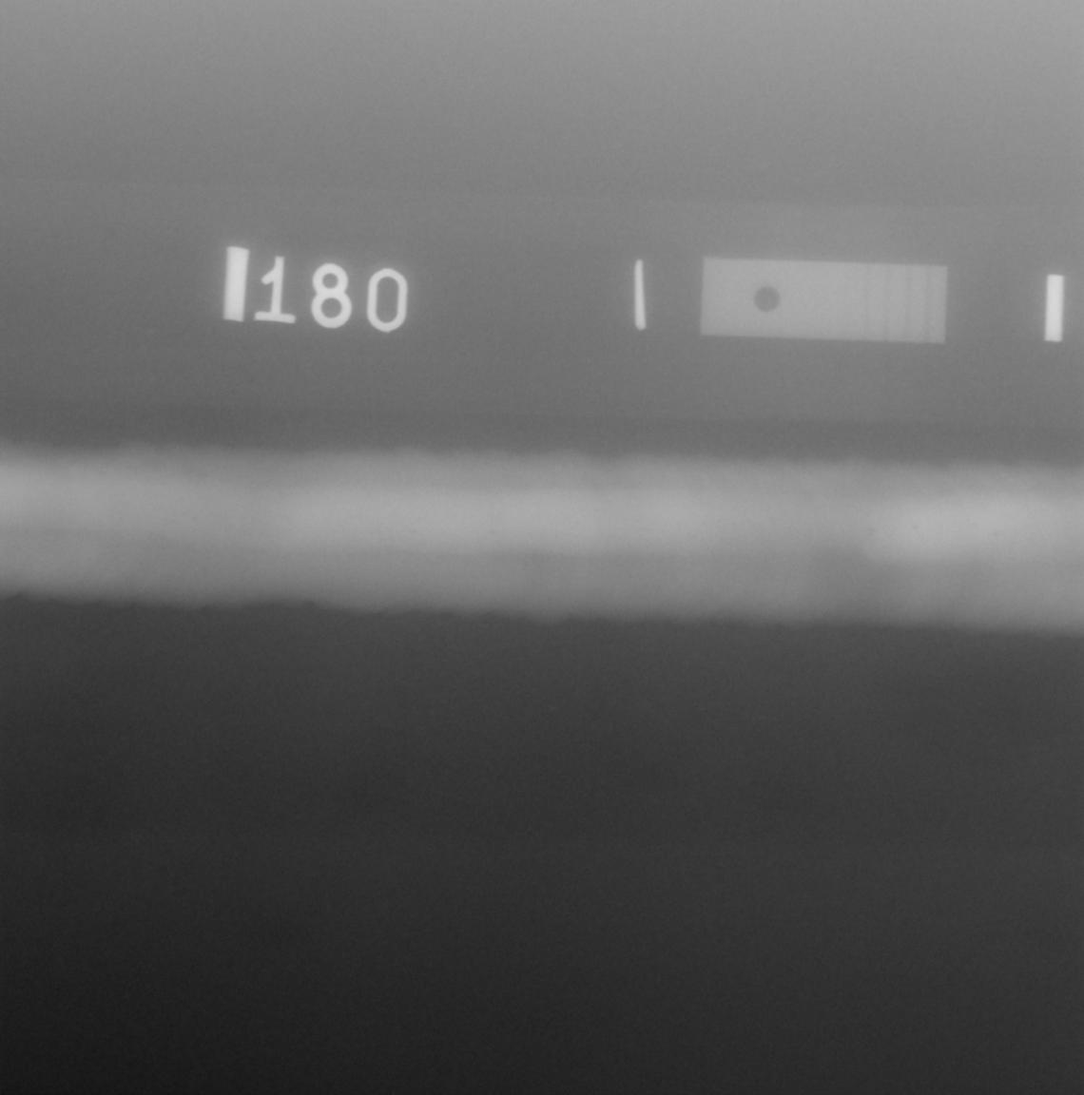Pore/Porosity: (912, 524, 920, 531), (869, 529, 878, 532), (972, 522, 977, 526), (994, 533, 998, 536)
Reference Standard 1: (700, 257, 948, 344)
